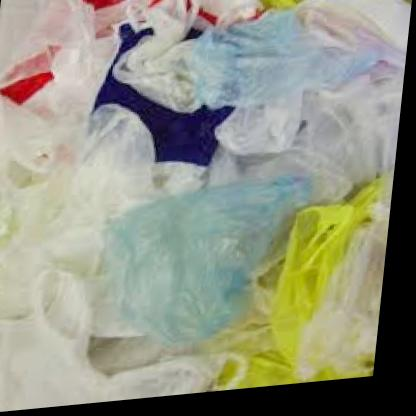Plastic: (80, 164, 322, 352), (236, 159, 380, 359), (0, 128, 99, 398), (9, 0, 184, 146), (179, 0, 358, 124)
